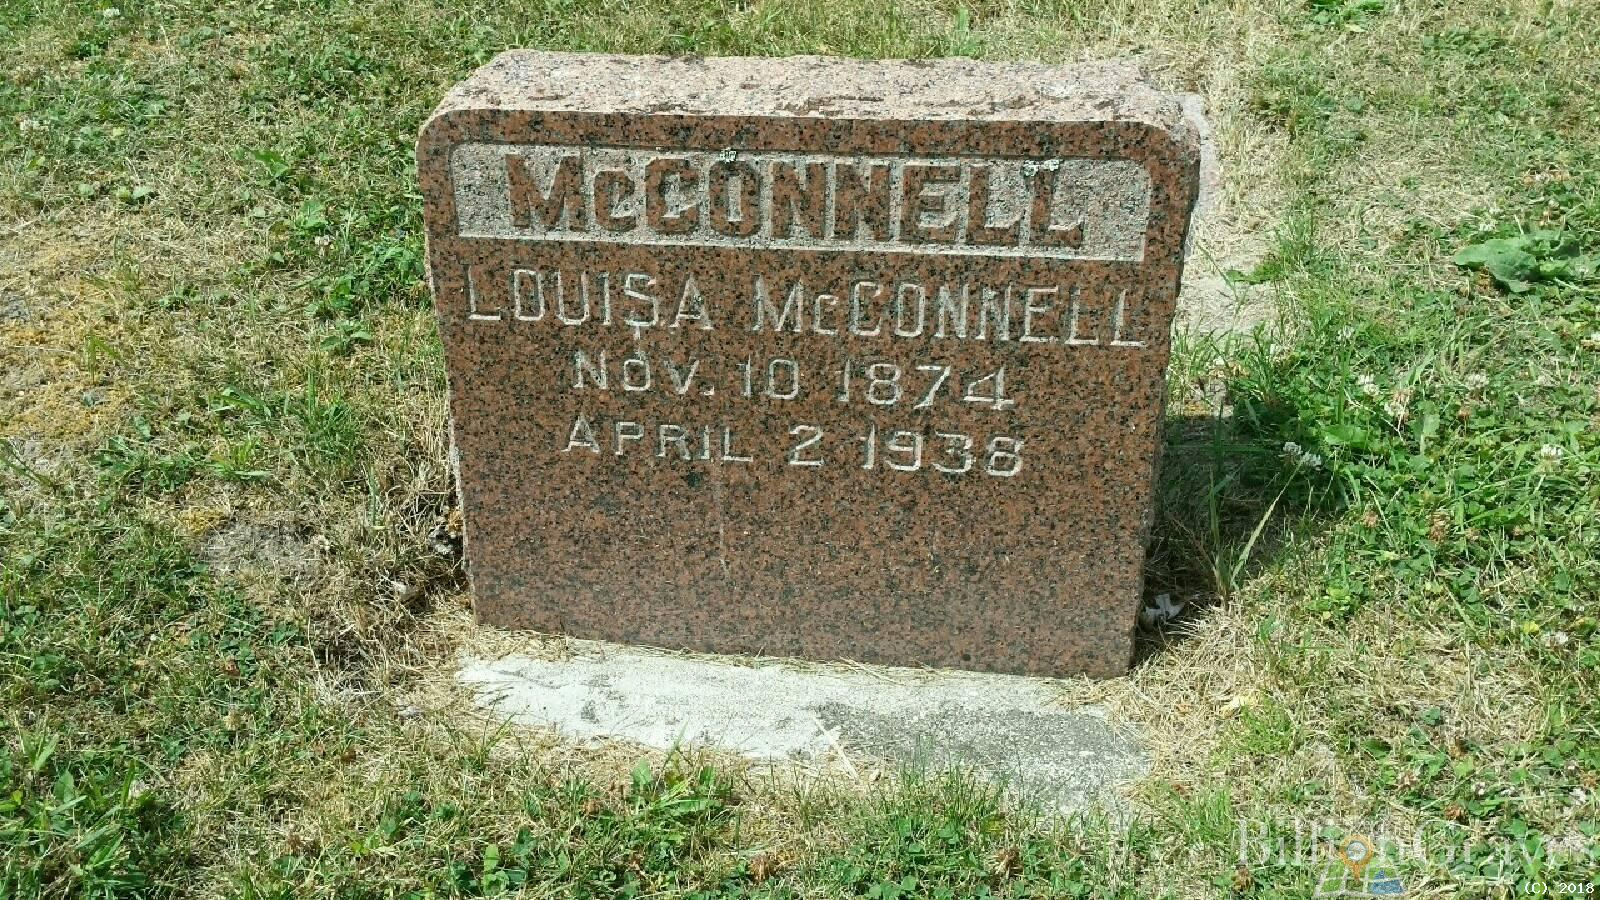upright: (353, 12, 1329, 800)
